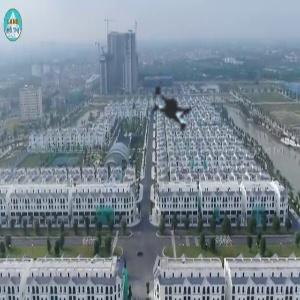drone: (123, 60, 223, 160)
